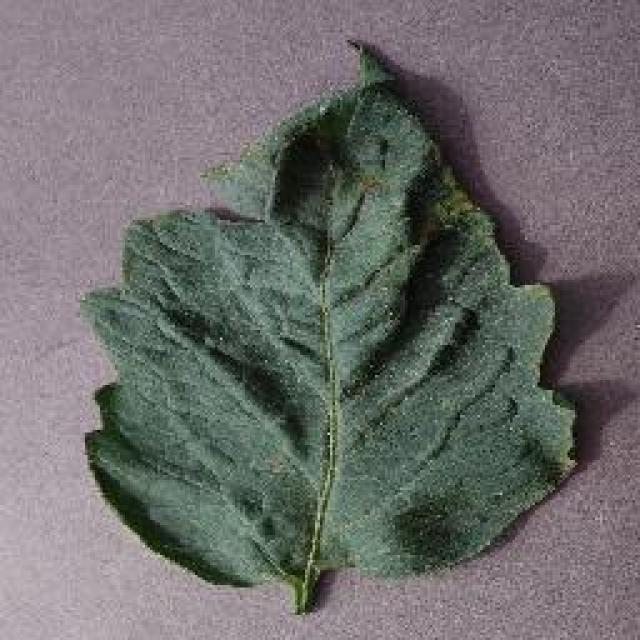Tomato Septoria spot leaf: (75, 38, 583, 588)
